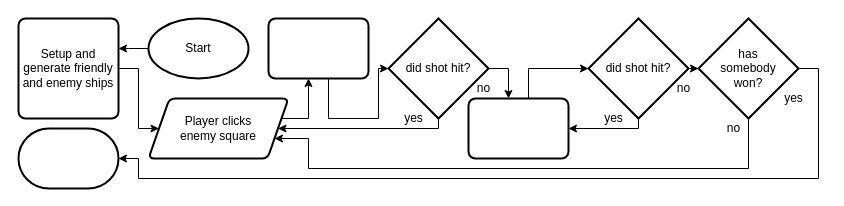
Some shapes in this 844 by 206 pixel diagram are drawn without their labels. Each missing label, with the centre of its shape:
end: the point at 68,158
Enemy Attacks Friendly Square: the point at 518,128
Enemy Square is revealed: the point at 318,48
